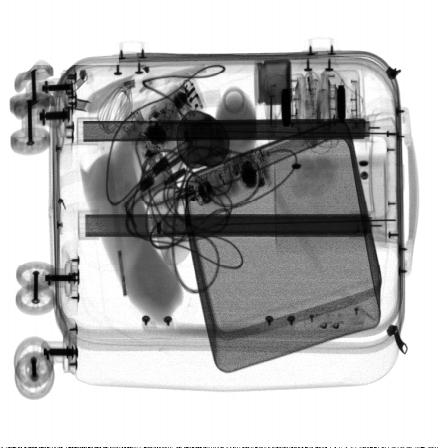Sprayer: (134, 130, 193, 266)
